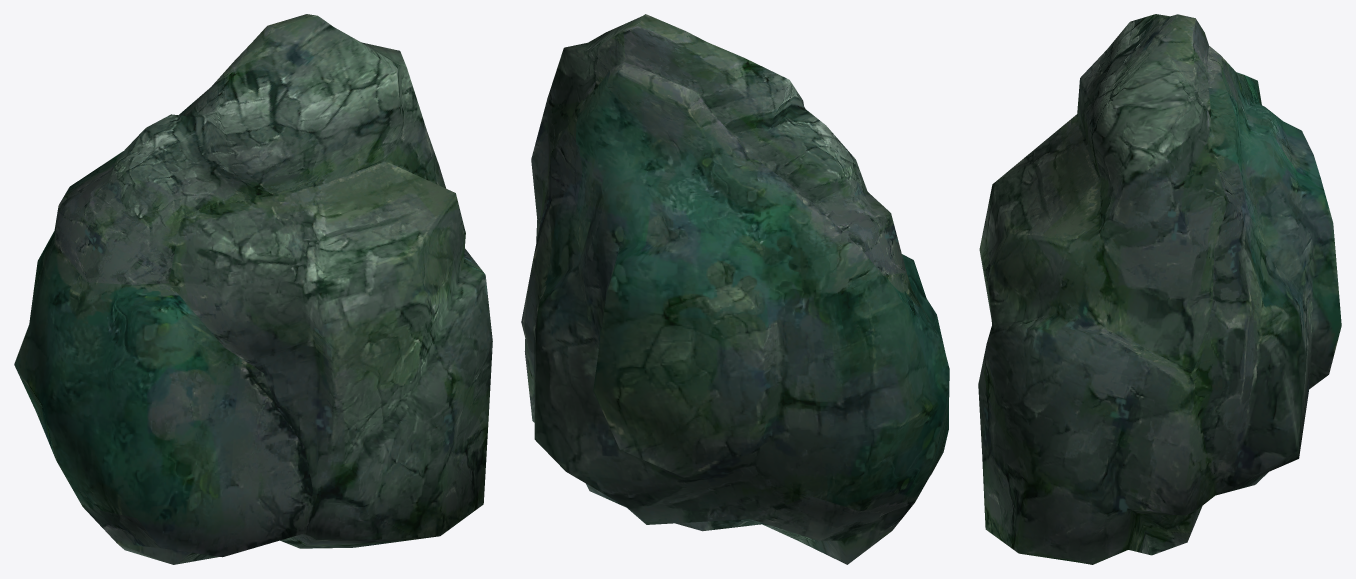
The model's file is dro_env_mountain_boulder_med_02.glb.
The picture shows the model from 3 angles, left to right: view 1: azimuth 30°, elevation 25°; view 2: azimuth 150°, elevation 25°; view 3: azimuth 270°, elevation 25°; orthographic projection. The views are drawn at different scales.
Visible parts, largest first — view 1: dro_env_mountain_boulder_med_02; view 2: dro_env_mountain_boulder_med_02; view 3: dro_env_mountain_boulder_med_02.
Part boxes in pixels (x1,y1,x2,y2): dro_env_mountain_boulder_med_02: (14, 14, 492, 564); dro_env_mountain_boulder_med_02: (521, 14, 949, 564); dro_env_mountain_boulder_med_02: (978, 14, 1341, 564).
Bounding box in the file's own units: 2.54 × 3.01 × 1.92.
Materials: 1 (1 with a texture image).
